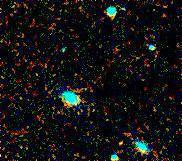star: (105, 129, 135, 159)
